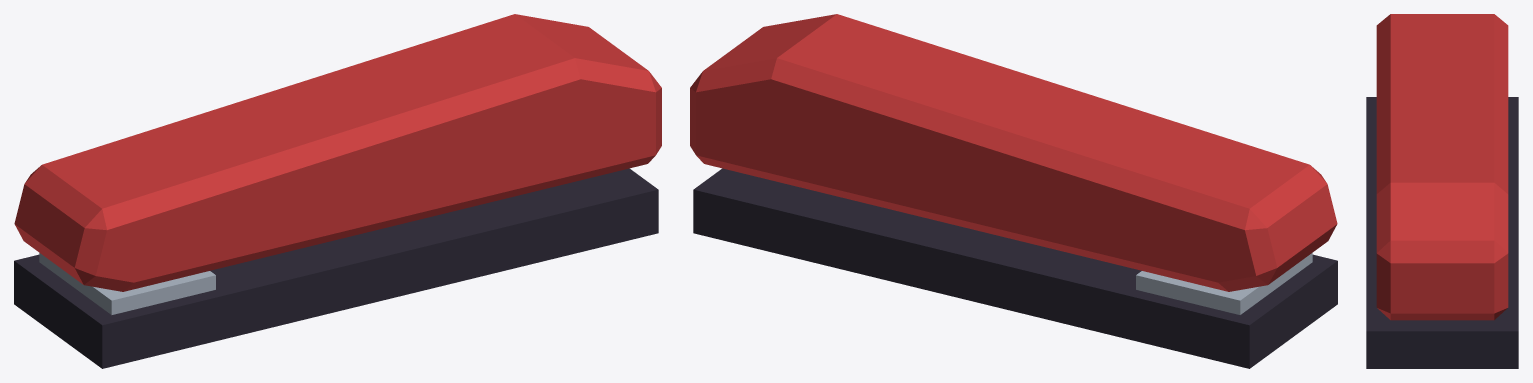
File: stapler.glb
The picture shows the model from 3 angles, left to right: view 1: azimuth 30°, elevation 25°; view 2: azimuth 150°, elevation 25°; view 3: azimuth 270°, elevation 25°; orthographic projection. The views are drawn at different scales.
Visible parts, largest first — view 1: Stapler arm, Stapler base, Stapler anvil; view 2: Stapler arm, Stapler base, Stapler anvil; view 3: Stapler arm, Stapler base.
Part boxes in pixels (x1,y1,x2,y2): Stapler arm: (14, 14, 661, 291); Stapler base: (14, 168, 658, 368); Stapler anvil: (39, 253, 215, 314); Stapler arm: (690, 14, 1337, 291); Stapler base: (693, 168, 1337, 368); Stapler anvil: (1136, 253, 1312, 314); Stapler arm: (1376, 14, 1508, 320); Stapler base: (1366, 97, 1518, 368).
Size of the model in its own units: 0.1689 by 0.05 by 0.044.
